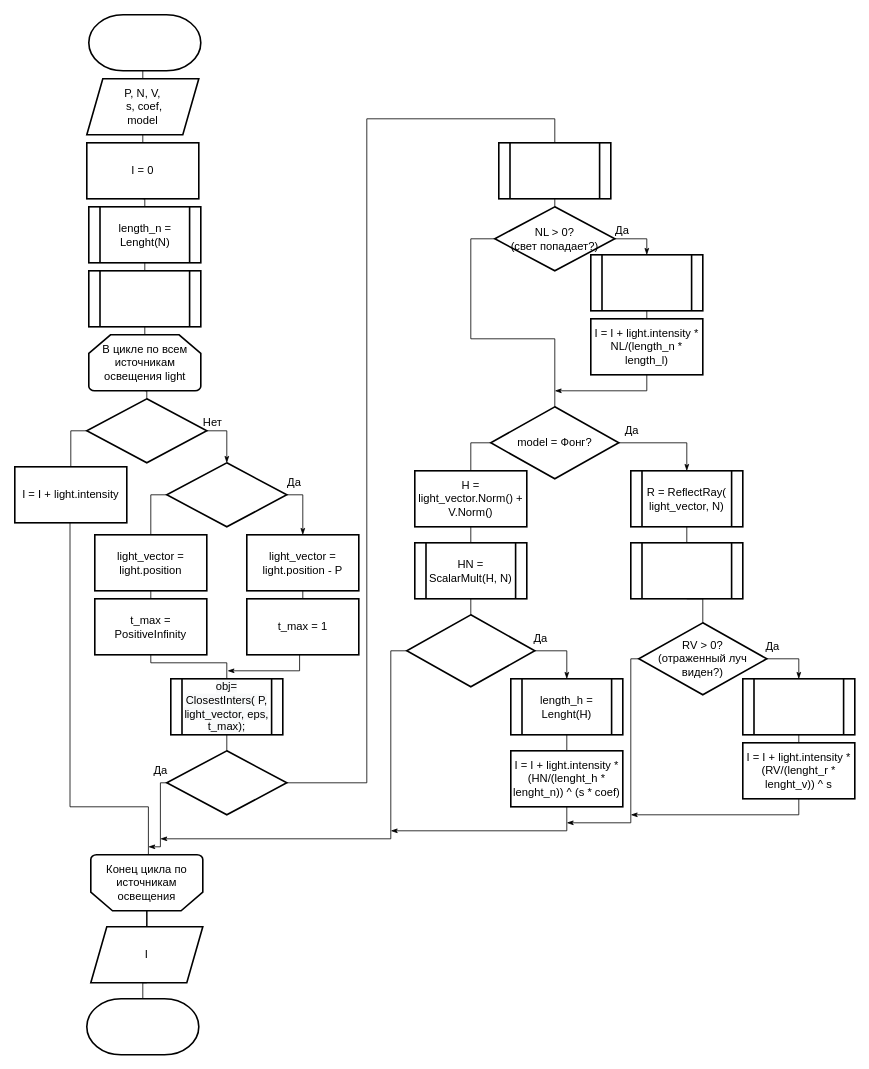
Image size: 869x1069. Some labels were removed from this diagram. The centre of each missing label's shape, as x and y in pixels:
"HN > 0? (отраженный луч виден?)" belongs at point (470, 650).
"length_l = Lenght( light_vector)" belongs at point (646, 282).
"length_r = Lenght(R)" belongs at point (798, 706).
"length_v = Lenght(V)" belongs at point (144, 298).
"light - точечный источник?" belongs at point (226, 494).
"light - фоновое освещение?" belongs at point (146, 430).
"NL = ScalarMult( N, light_vector)" belongs at point (554, 170).
"obj != null (объект в тени)?" belongs at point (226, 782).
"RV = ScalarMult(R, V)" belongs at point (686, 570).
"Конец программы FindIntensity" belongs at point (142, 1026).
"Начало программы FindIntensity" belongs at point (144, 42).
